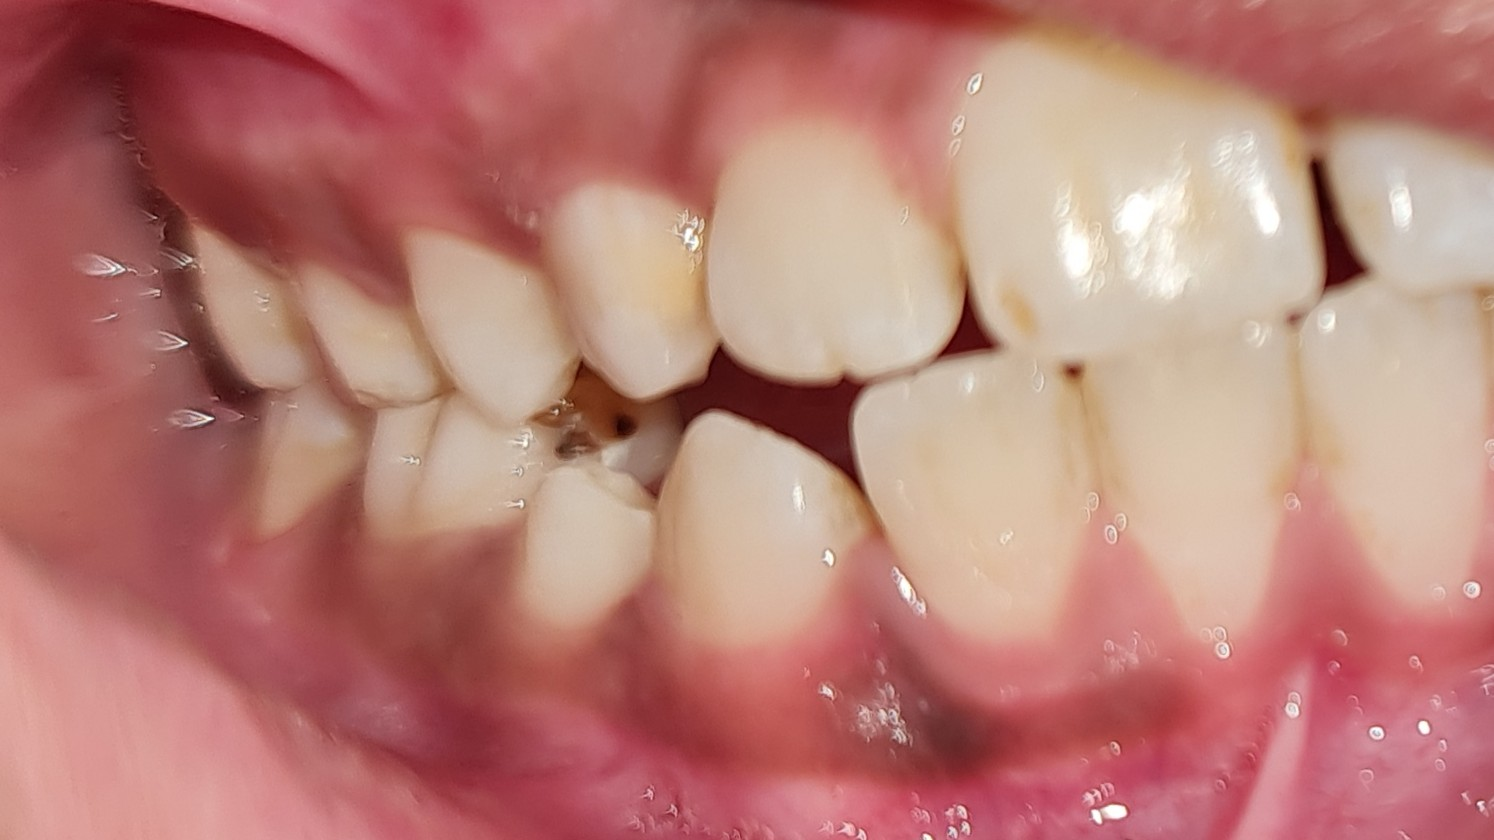D: (355, 405, 670, 537)
